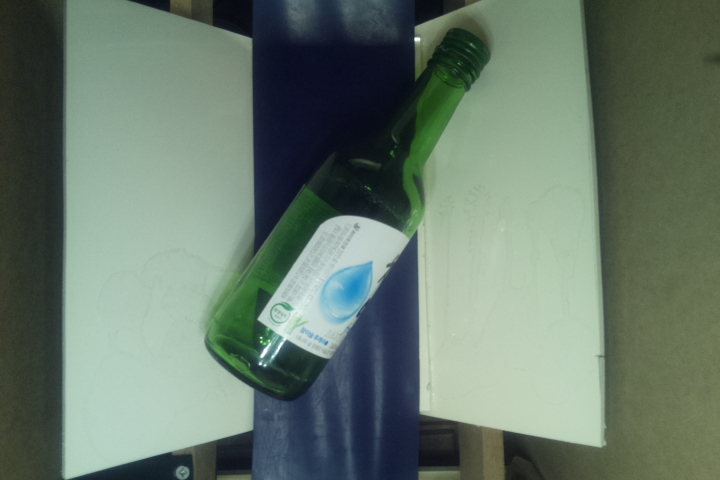soju: (205, 27, 492, 402)
